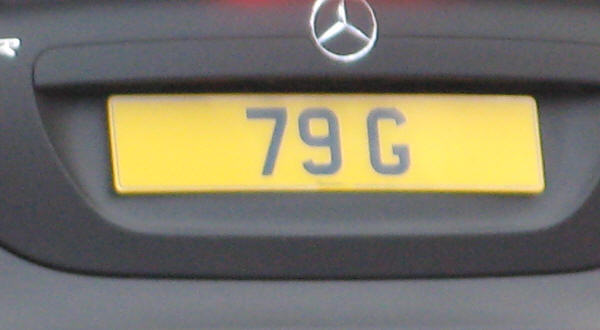license_plate: (108, 92, 548, 195)
